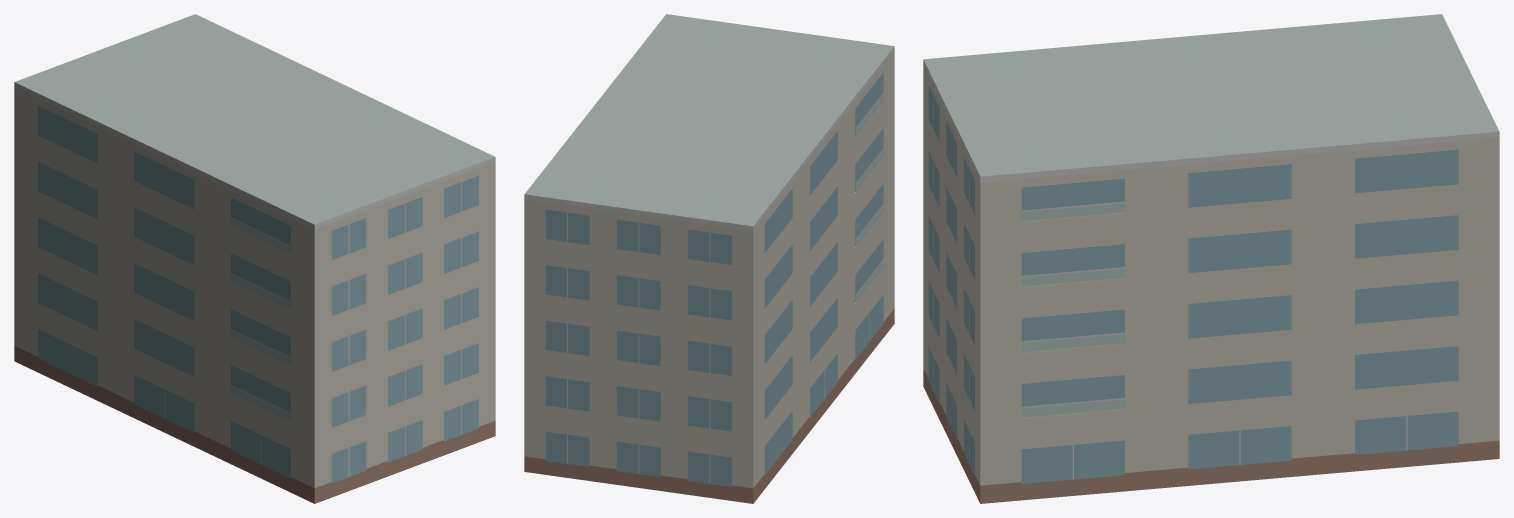
The model's file is survey-upis-32546803.glb.
3 renders of one model, left to right at view 1: azimuth 30°, elevation 25°; view 2: azimuth 150°, elevation 25°; view 3: azimuth 270°, elevation 25°, orthographic. The views are drawn at different scales.
Visible parts, largest first — view 1: survey-upis-32546803.tmp; view 2: survey-upis-32546803.tmp; view 3: survey-upis-32546803.tmp.
Boxes of the visible parts, left/top/right/bottom form: survey-upis-32546803.tmp: left=14, top=14, right=495, bottom=503; survey-upis-32546803.tmp: left=524, top=14, right=894, bottom=503; survey-upis-32546803.tmp: left=923, top=14, right=1499, bottom=503.
Size of the model in its own units: 14.19 by 13.3 by 21.23.
